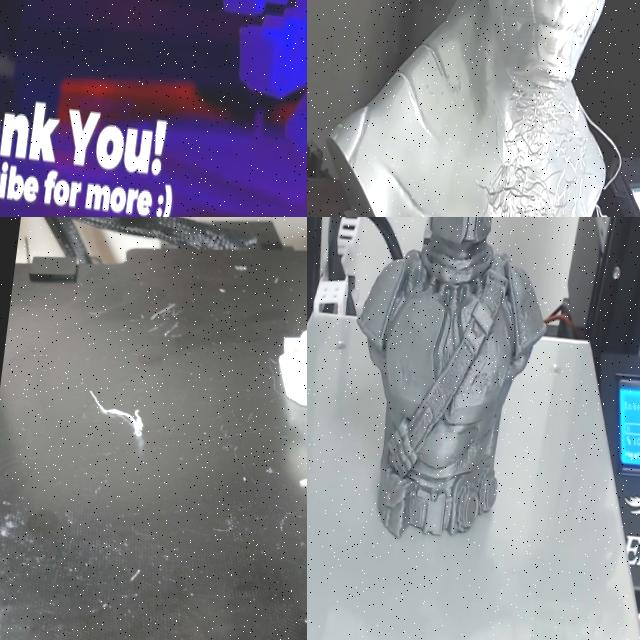spaghetti: (422, 62, 640, 217), (66, 377, 162, 448)
